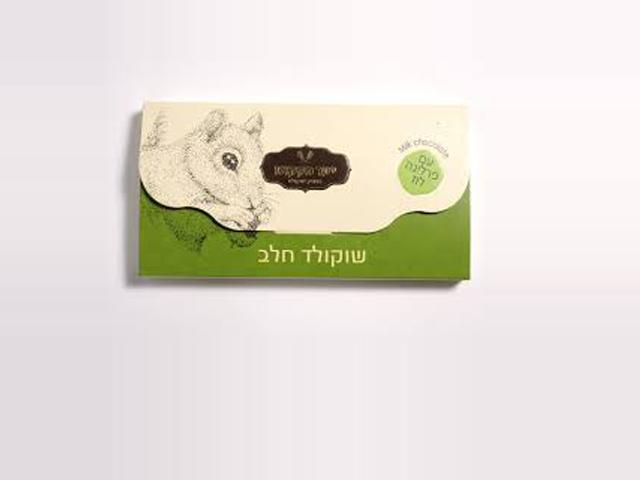chocolate: (132, 97, 473, 284)
